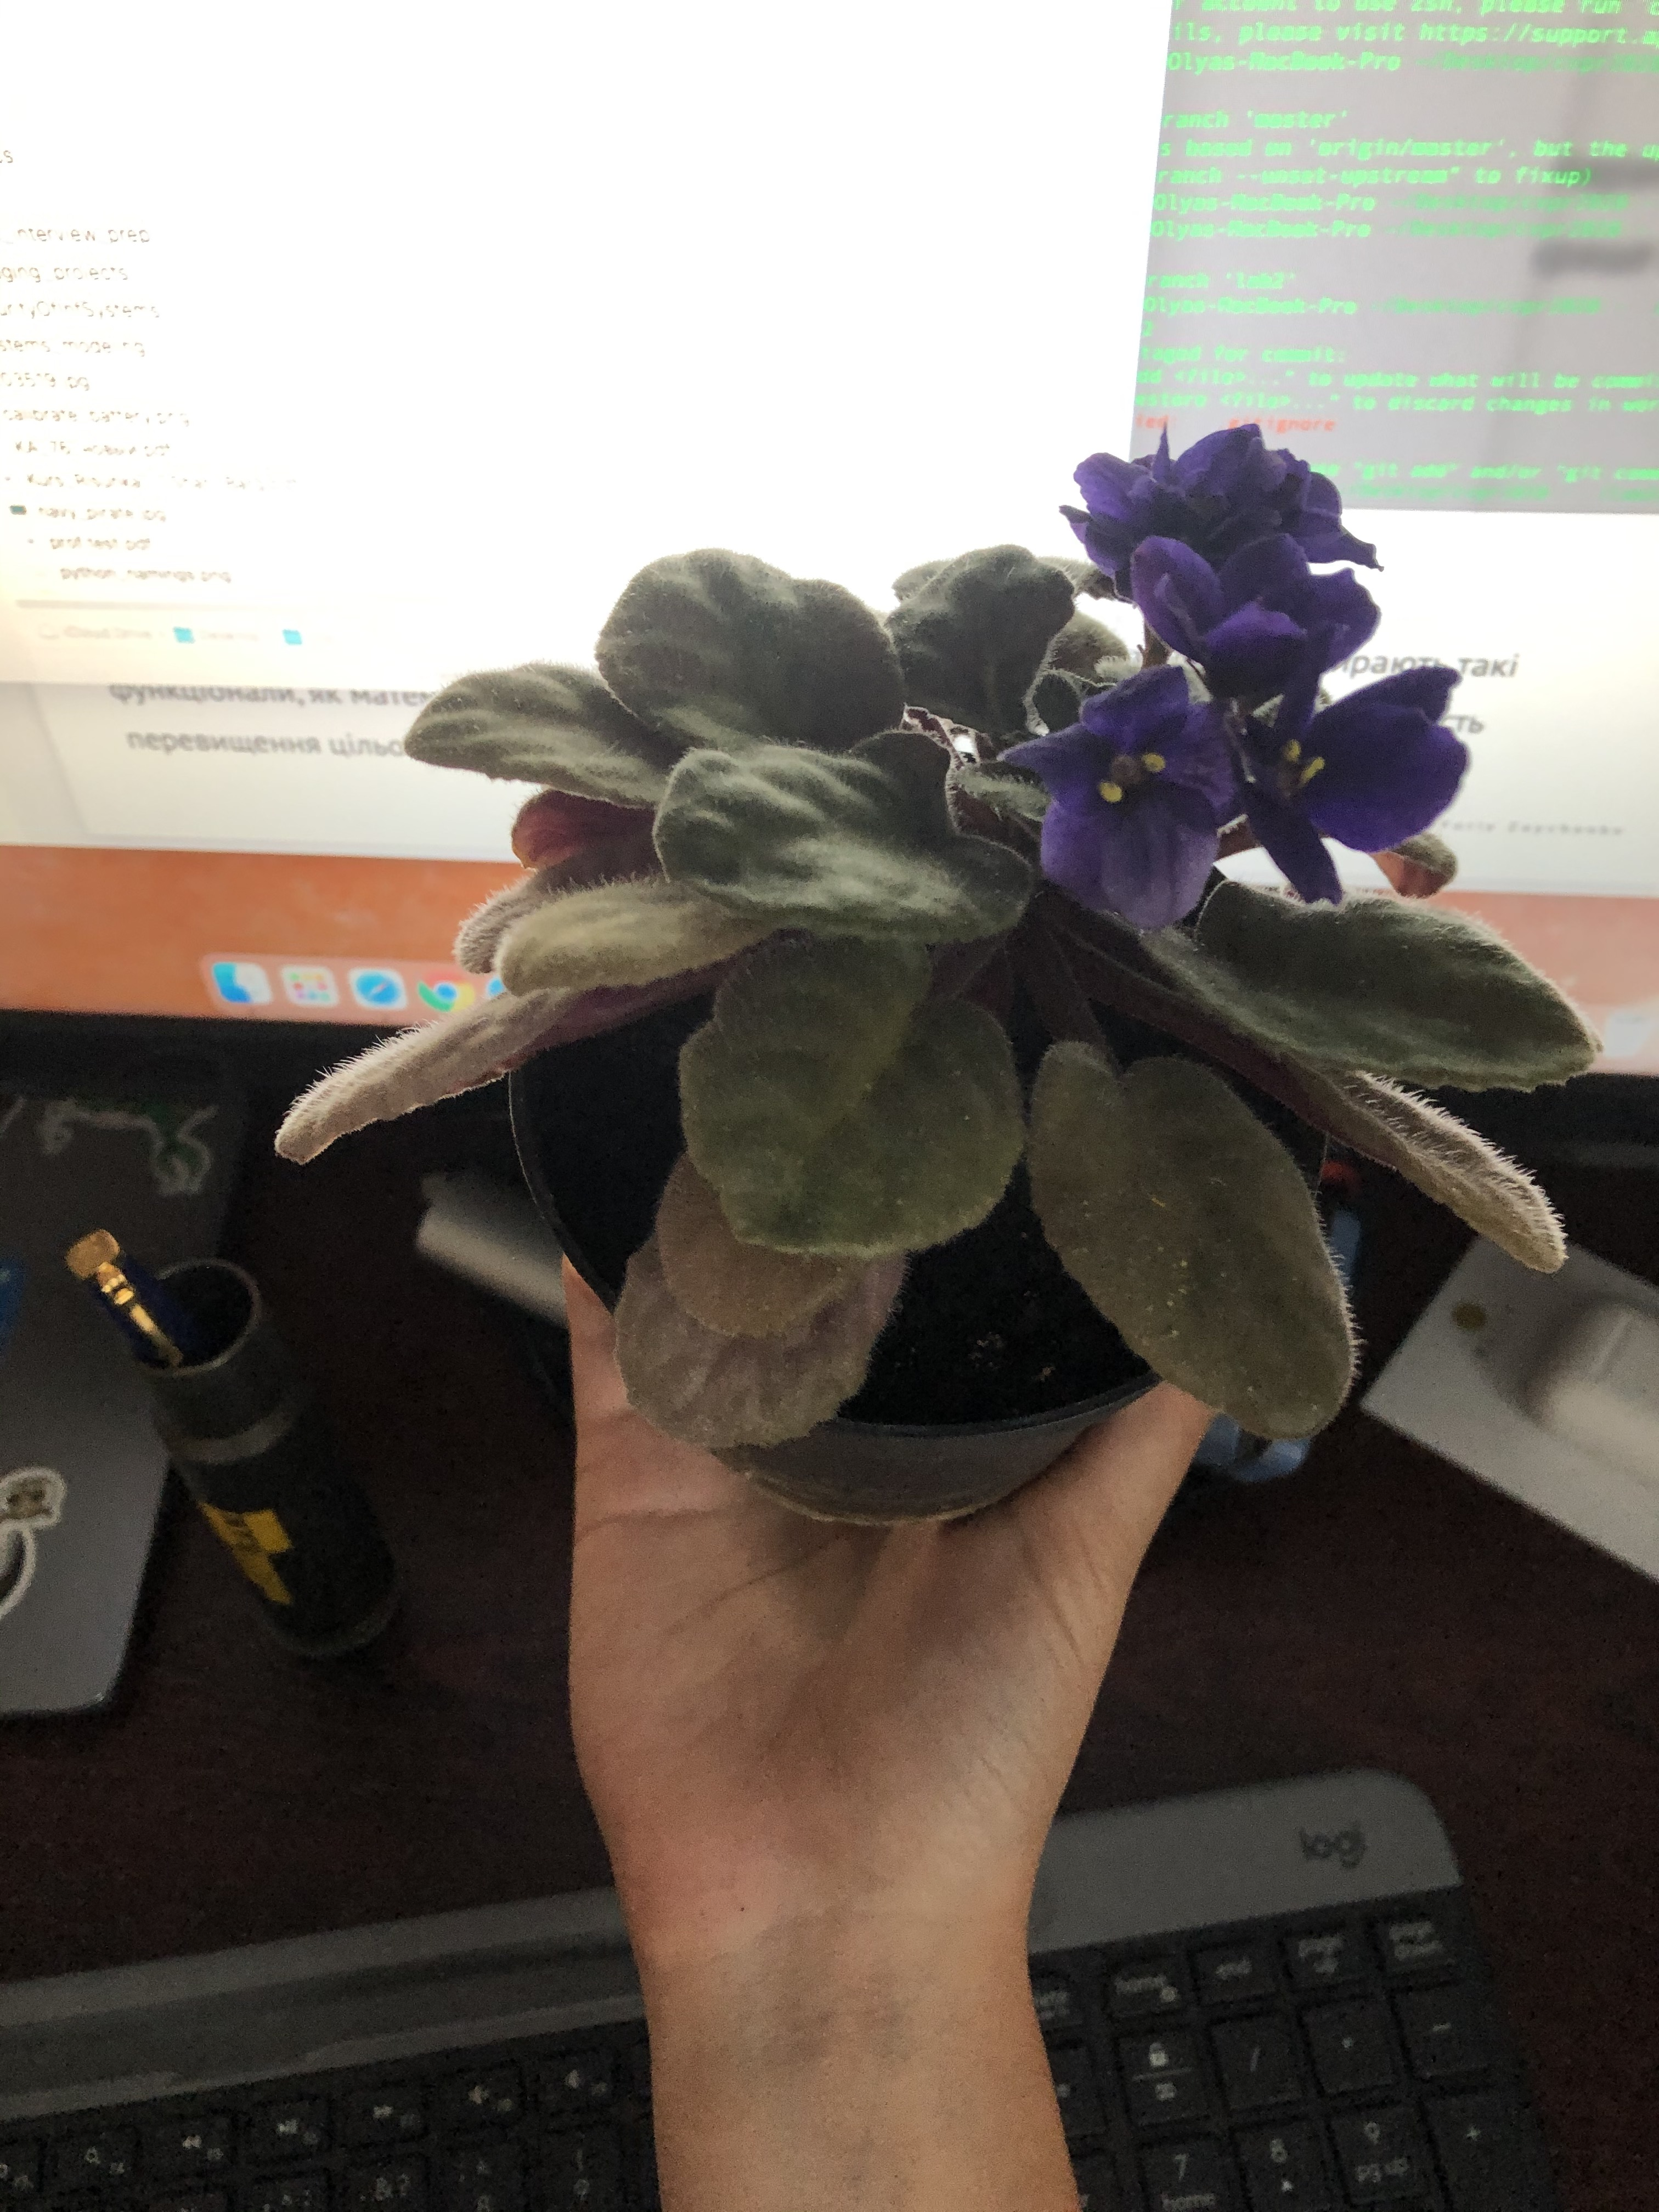ignore: (382, 451, 1581, 1446)
